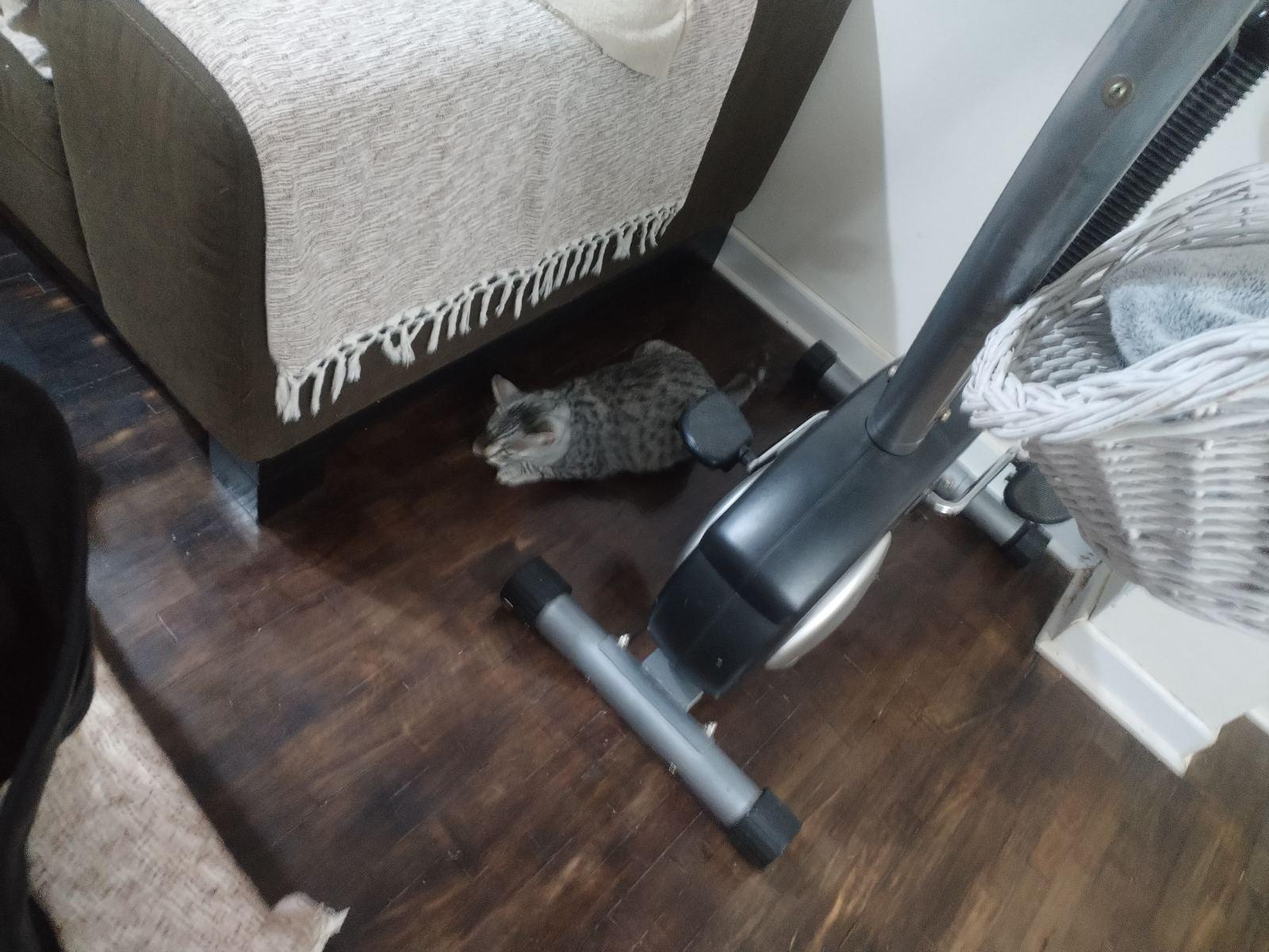macka: (463, 336, 777, 490)
